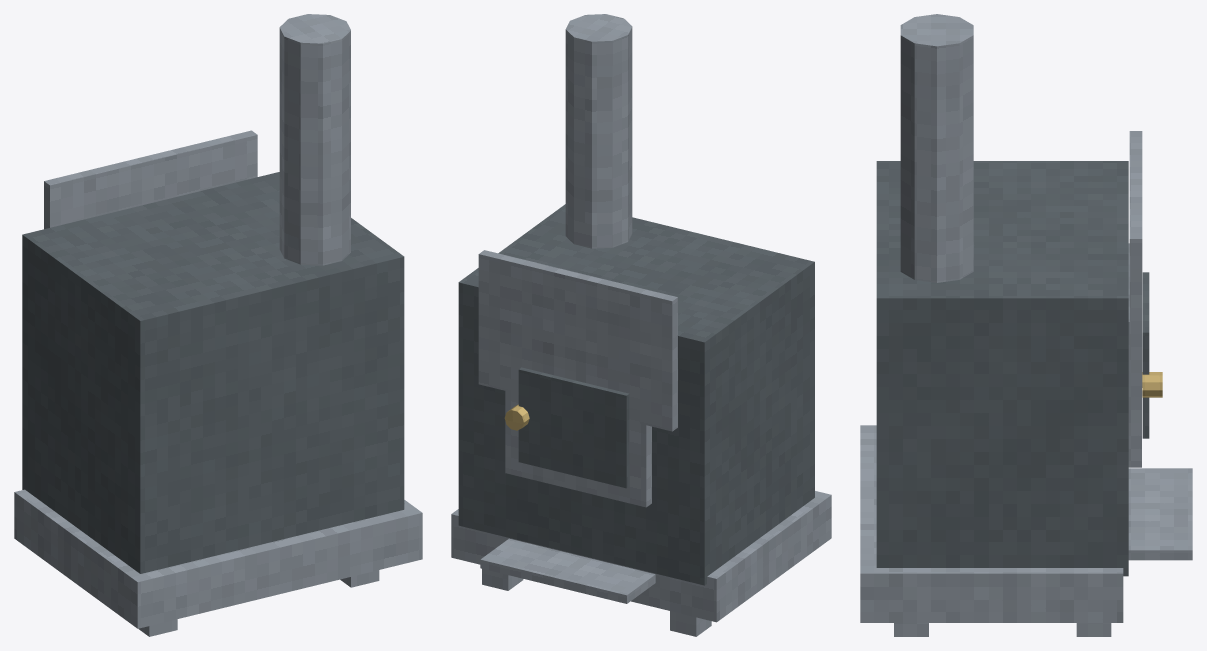
File: level_blockout_refined_house_iron_stove.glb
3 views of the same model, side by side, from view 1: azimuth 30°, elevation 25°; view 2: azimuth 150°, elevation 25°; view 3: azimuth 270°, elevation 25° (orthographic). The views are drawn at different scales.
Parts seen in each view (by area): view 1: level_blockout_refined_house_iron_stove; view 2: level_blockout_refined_house_iron_stove; view 3: level_blockout_refined_house_iron_stove.
Boxes of the visible parts, box(x1,y1,x2,y2) form: level_blockout_refined_house_iron_stove: box(14, 14, 422, 636); level_blockout_refined_house_iron_stove: box(451, 14, 831, 636); level_blockout_refined_house_iron_stove: box(860, 14, 1192, 636).
Size of the model in its own units: 0.96 by 1.76 by 0.91.
Materials: 3 (3 with a texture image).
